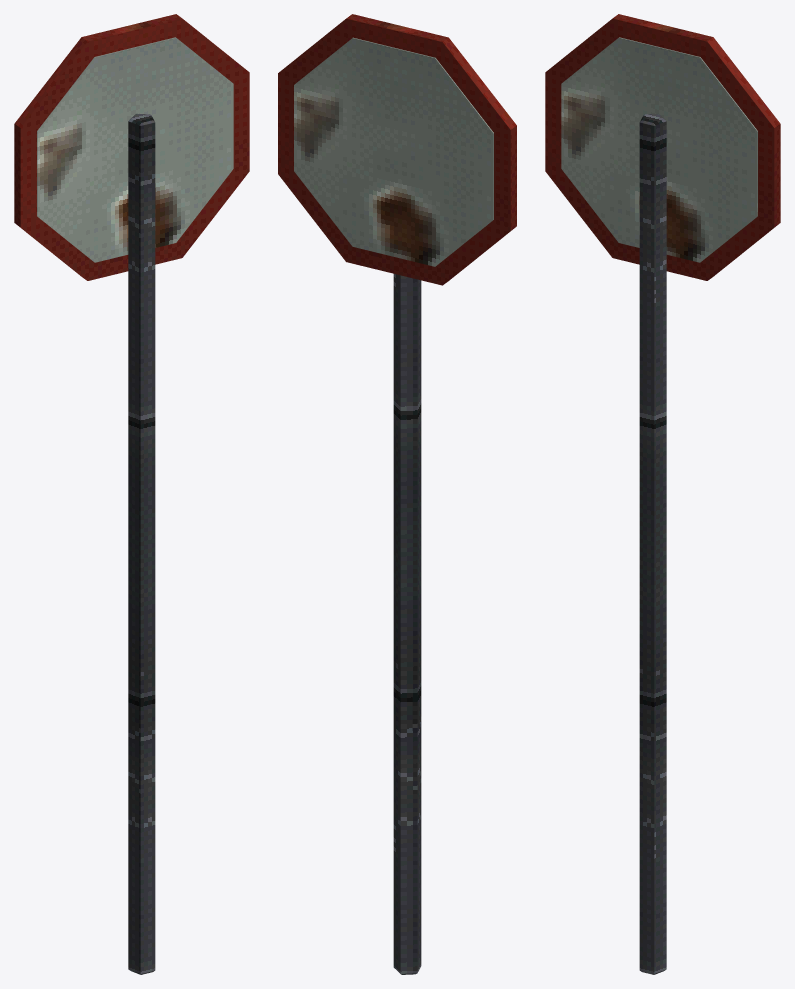
The model's file is ext_stop_sign.glb.
The picture shows the model from 3 angles, left to right: view 1: azimuth 30°, elevation 25°; view 2: azimuth 150°, elevation 25°; view 3: azimuth 330°, elevation 25°; orthographic projection.
Visible parts, largest first — view 1: ext_stop_sign_mesh; view 2: ext_stop_sign_mesh; view 3: ext_stop_sign_mesh.
Part boxes in pixels (x1=…): ext_stop_sign_mesh: x1=14, y1=14, x2=249, y2=974; ext_stop_sign_mesh: x1=278, y1=14, x2=516, y2=974; ext_stop_sign_mesh: x1=545, y1=14, x2=780, y2=974.
Size of what is drawn, in the model's own units: 0.6467 by 2.52 by 0.0958.
3 materials, 3 textured.
